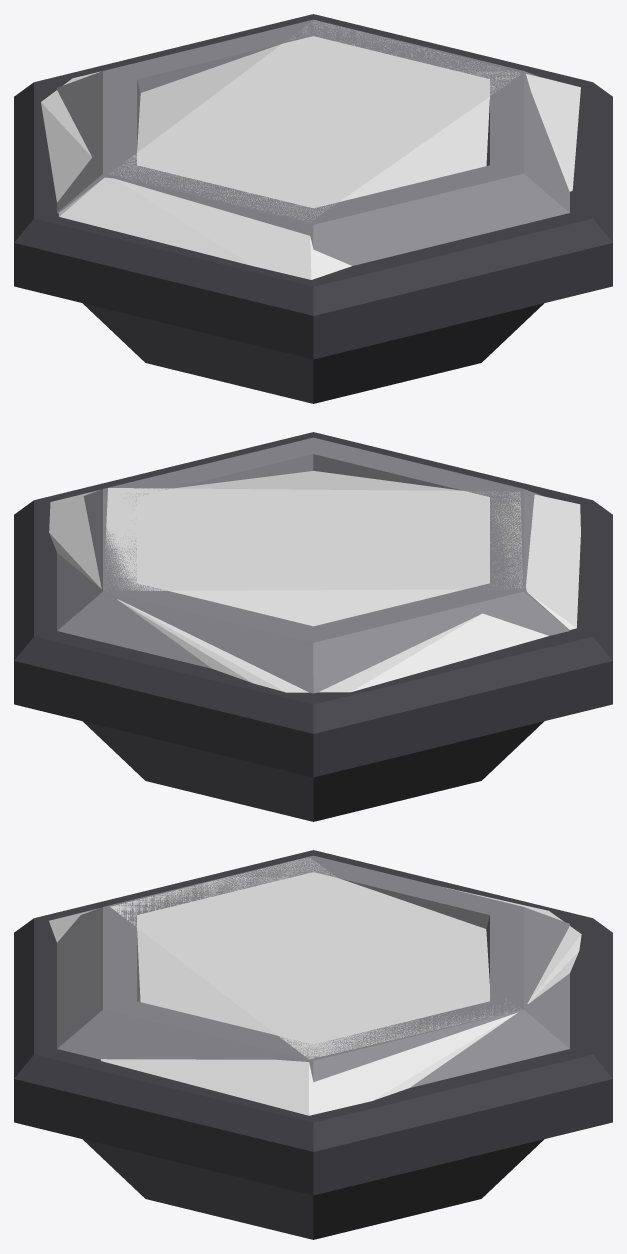
The model's file is SM_Prop_Solar_Hex_01.fbx.
3 views of the same model, one above another, from view 1: azimuth 30°, elevation 25°; view 2: azimuth 150°, elevation 25°; view 3: azimuth 270°, elevation 25° (orthographic).
Parts seen in each view (by area): view 1: SM_Prop_Solar_Hex_01_LOD0, SM_Prop_Solar_Hex_01_ConvexHulls; view 2: SM_Prop_Solar_Hex_01_LOD0, SM_Prop_Solar_Hex_01_ConvexHulls; view 3: SM_Prop_Solar_Hex_01_LOD0, SM_Prop_Solar_Hex_01_ConvexHulls.
Part boxes in pixels (x1,y1,x2,y2): SM_Prop_Solar_Hex_01_LOD0: (14, 14, 612, 403); SM_Prop_Solar_Hex_01_ConvexHulls: (41, 20, 580, 279); SM_Prop_Solar_Hex_01_LOD0: (14, 432, 612, 821); SM_Prop_Solar_Hex_01_ConvexHulls: (49, 471, 580, 692); SM_Prop_Solar_Hex_01_LOD0: (14, 850, 612, 1239); SM_Prop_Solar_Hex_01_ConvexHulls: (49, 857, 581, 1115).
Size of the model in its own units: 123 by 142 by 45.1.
1 material, 1 textured.
